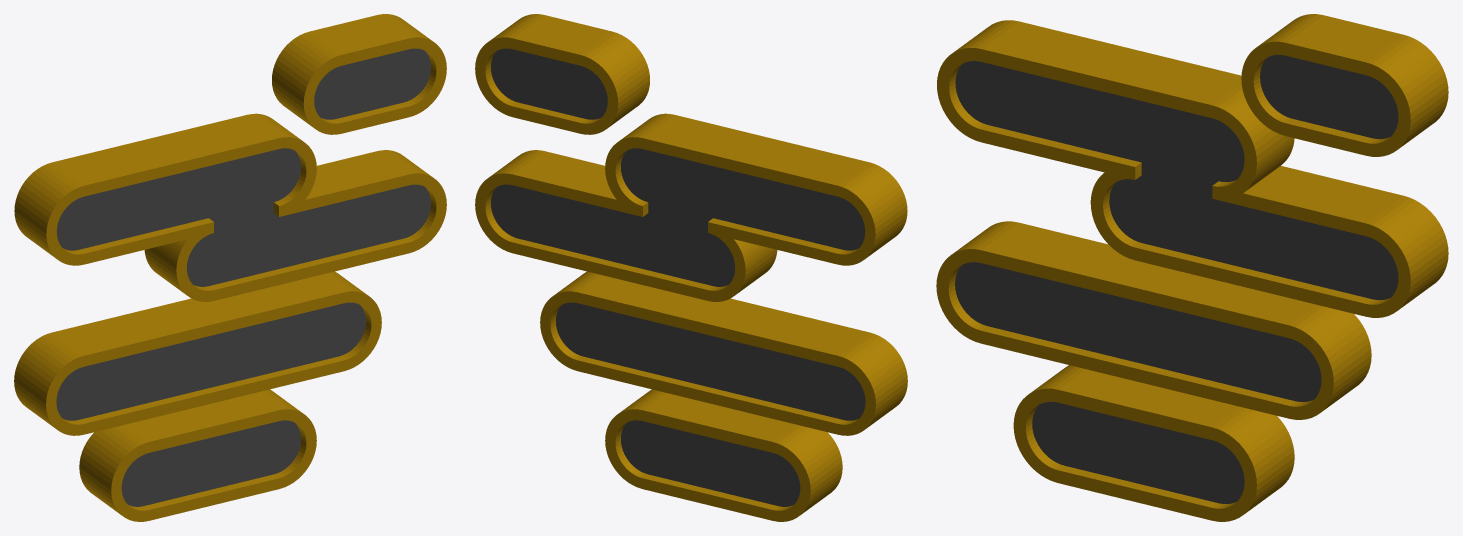
Rendered from mist-small.glb.
3 views of the same model, side by side, from view 1: azimuth 30°, elevation 25°; view 2: azimuth 150°, elevation 25°; view 3: azimuth 330°, elevation 25° (orthographic). The views are drawn at different scales.
Parts seen in each view (by area): view 1: mist; view 2: mist; view 3: mist.
Part boxes in pixels (x1=…): mist: x1=14, y1=14, x2=446, y2=521; mist: x1=475, y1=14, x2=907, y2=521; mist: x1=936, y1=14, x2=1448, y2=521.
Bounding box in the file's own units: 1.31 × 1.3 × 0.18.
